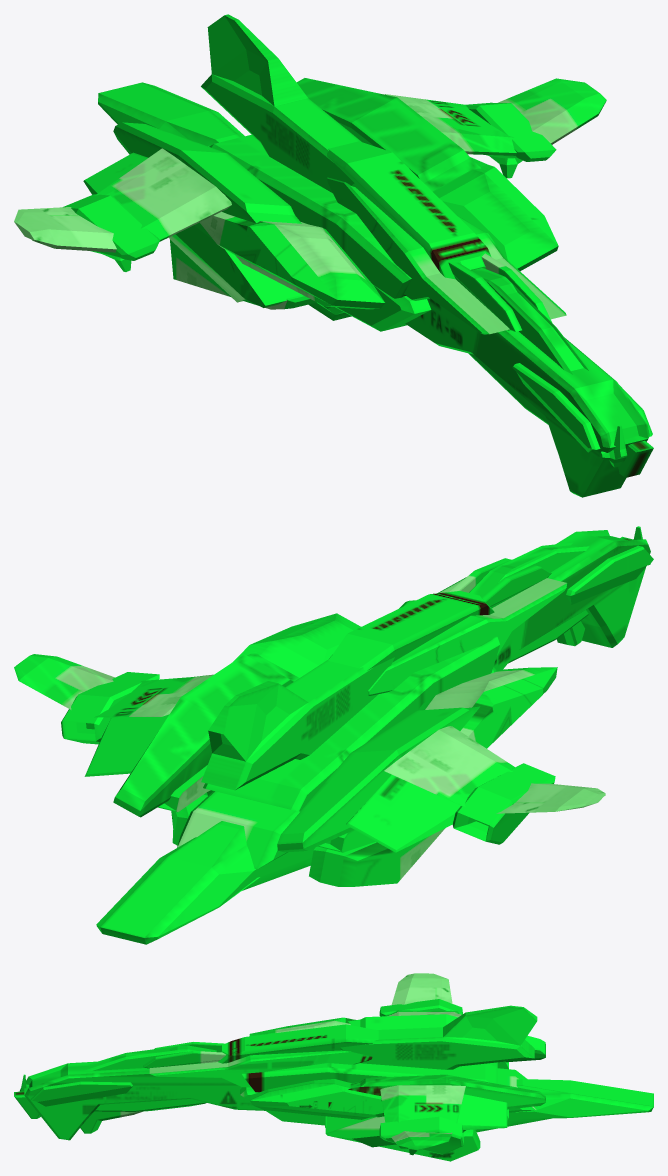
The model's file is omega_bomber2.FBX.
3 renders of one model, top to bottom at view 1: azimuth 30°, elevation 25°; view 2: azimuth 150°, elevation 25°; view 3: azimuth 270°, elevation 25°, orthographic. The views are drawn at different scales.
Parts seen in each view (by area): view 1: polySurface49; view 2: polySurface49; view 3: polySurface49.
Part boxes in pixels (x1=…): polySurface49: x1=14, y1=14, x2=653, y2=497; polySurface49: x1=14, y1=526, x2=653, y2=944; polySurface49: x1=14, y1=973, x2=653, y2=1161.
Bounding box in the file's own units: 88.26 × 31.6 × 138.
